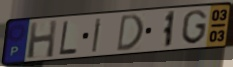1: (163, 9, 177, 50)
D: (115, 13, 145, 54)
G: (180, 8, 208, 46)
H: (26, 19, 59, 60)
I: (90, 17, 104, 54)
L: (58, 19, 79, 56)
